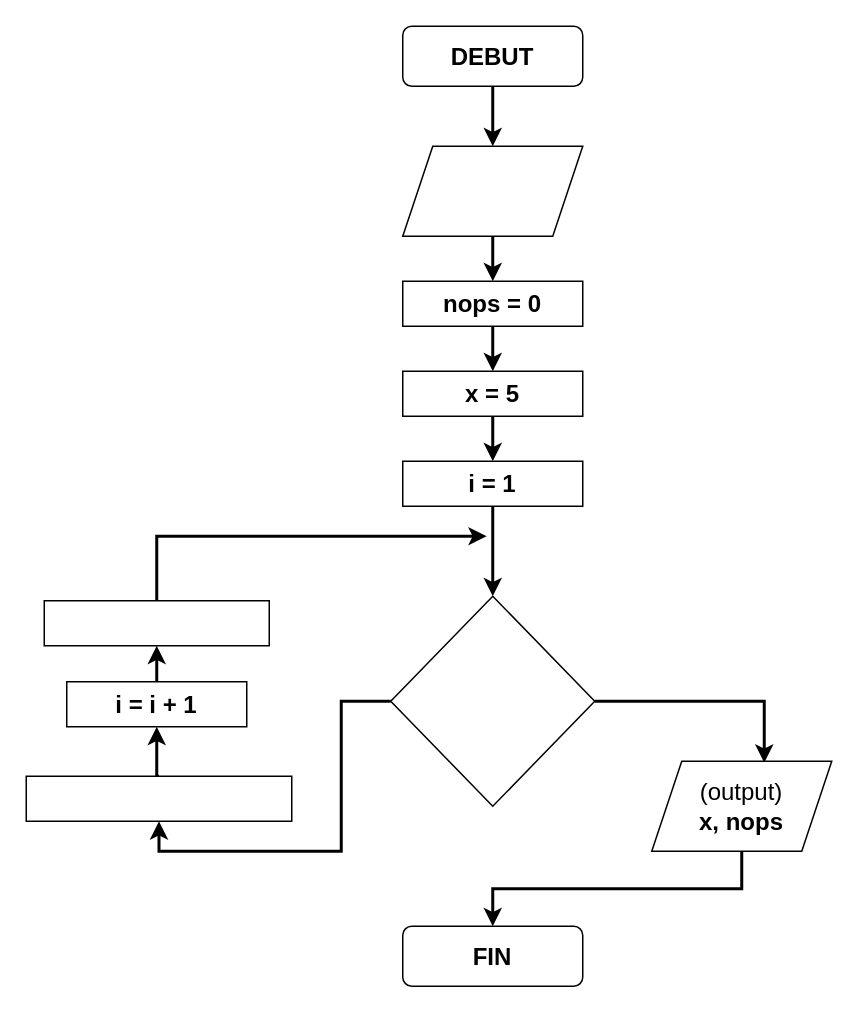
This 858x1013 diagram has some shape labels left out. Each missing label, with the centre of its shape:
"(input) nt" belongs at point 492,190.
"i < nt" belongs at point 492,700.
"nops = nops + 1" belongs at point 156,622.
"x = 0.5 * (x + 5 / x)" belongs at point 158,798.
